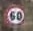limite 60: (2, 4, 26, 26)
